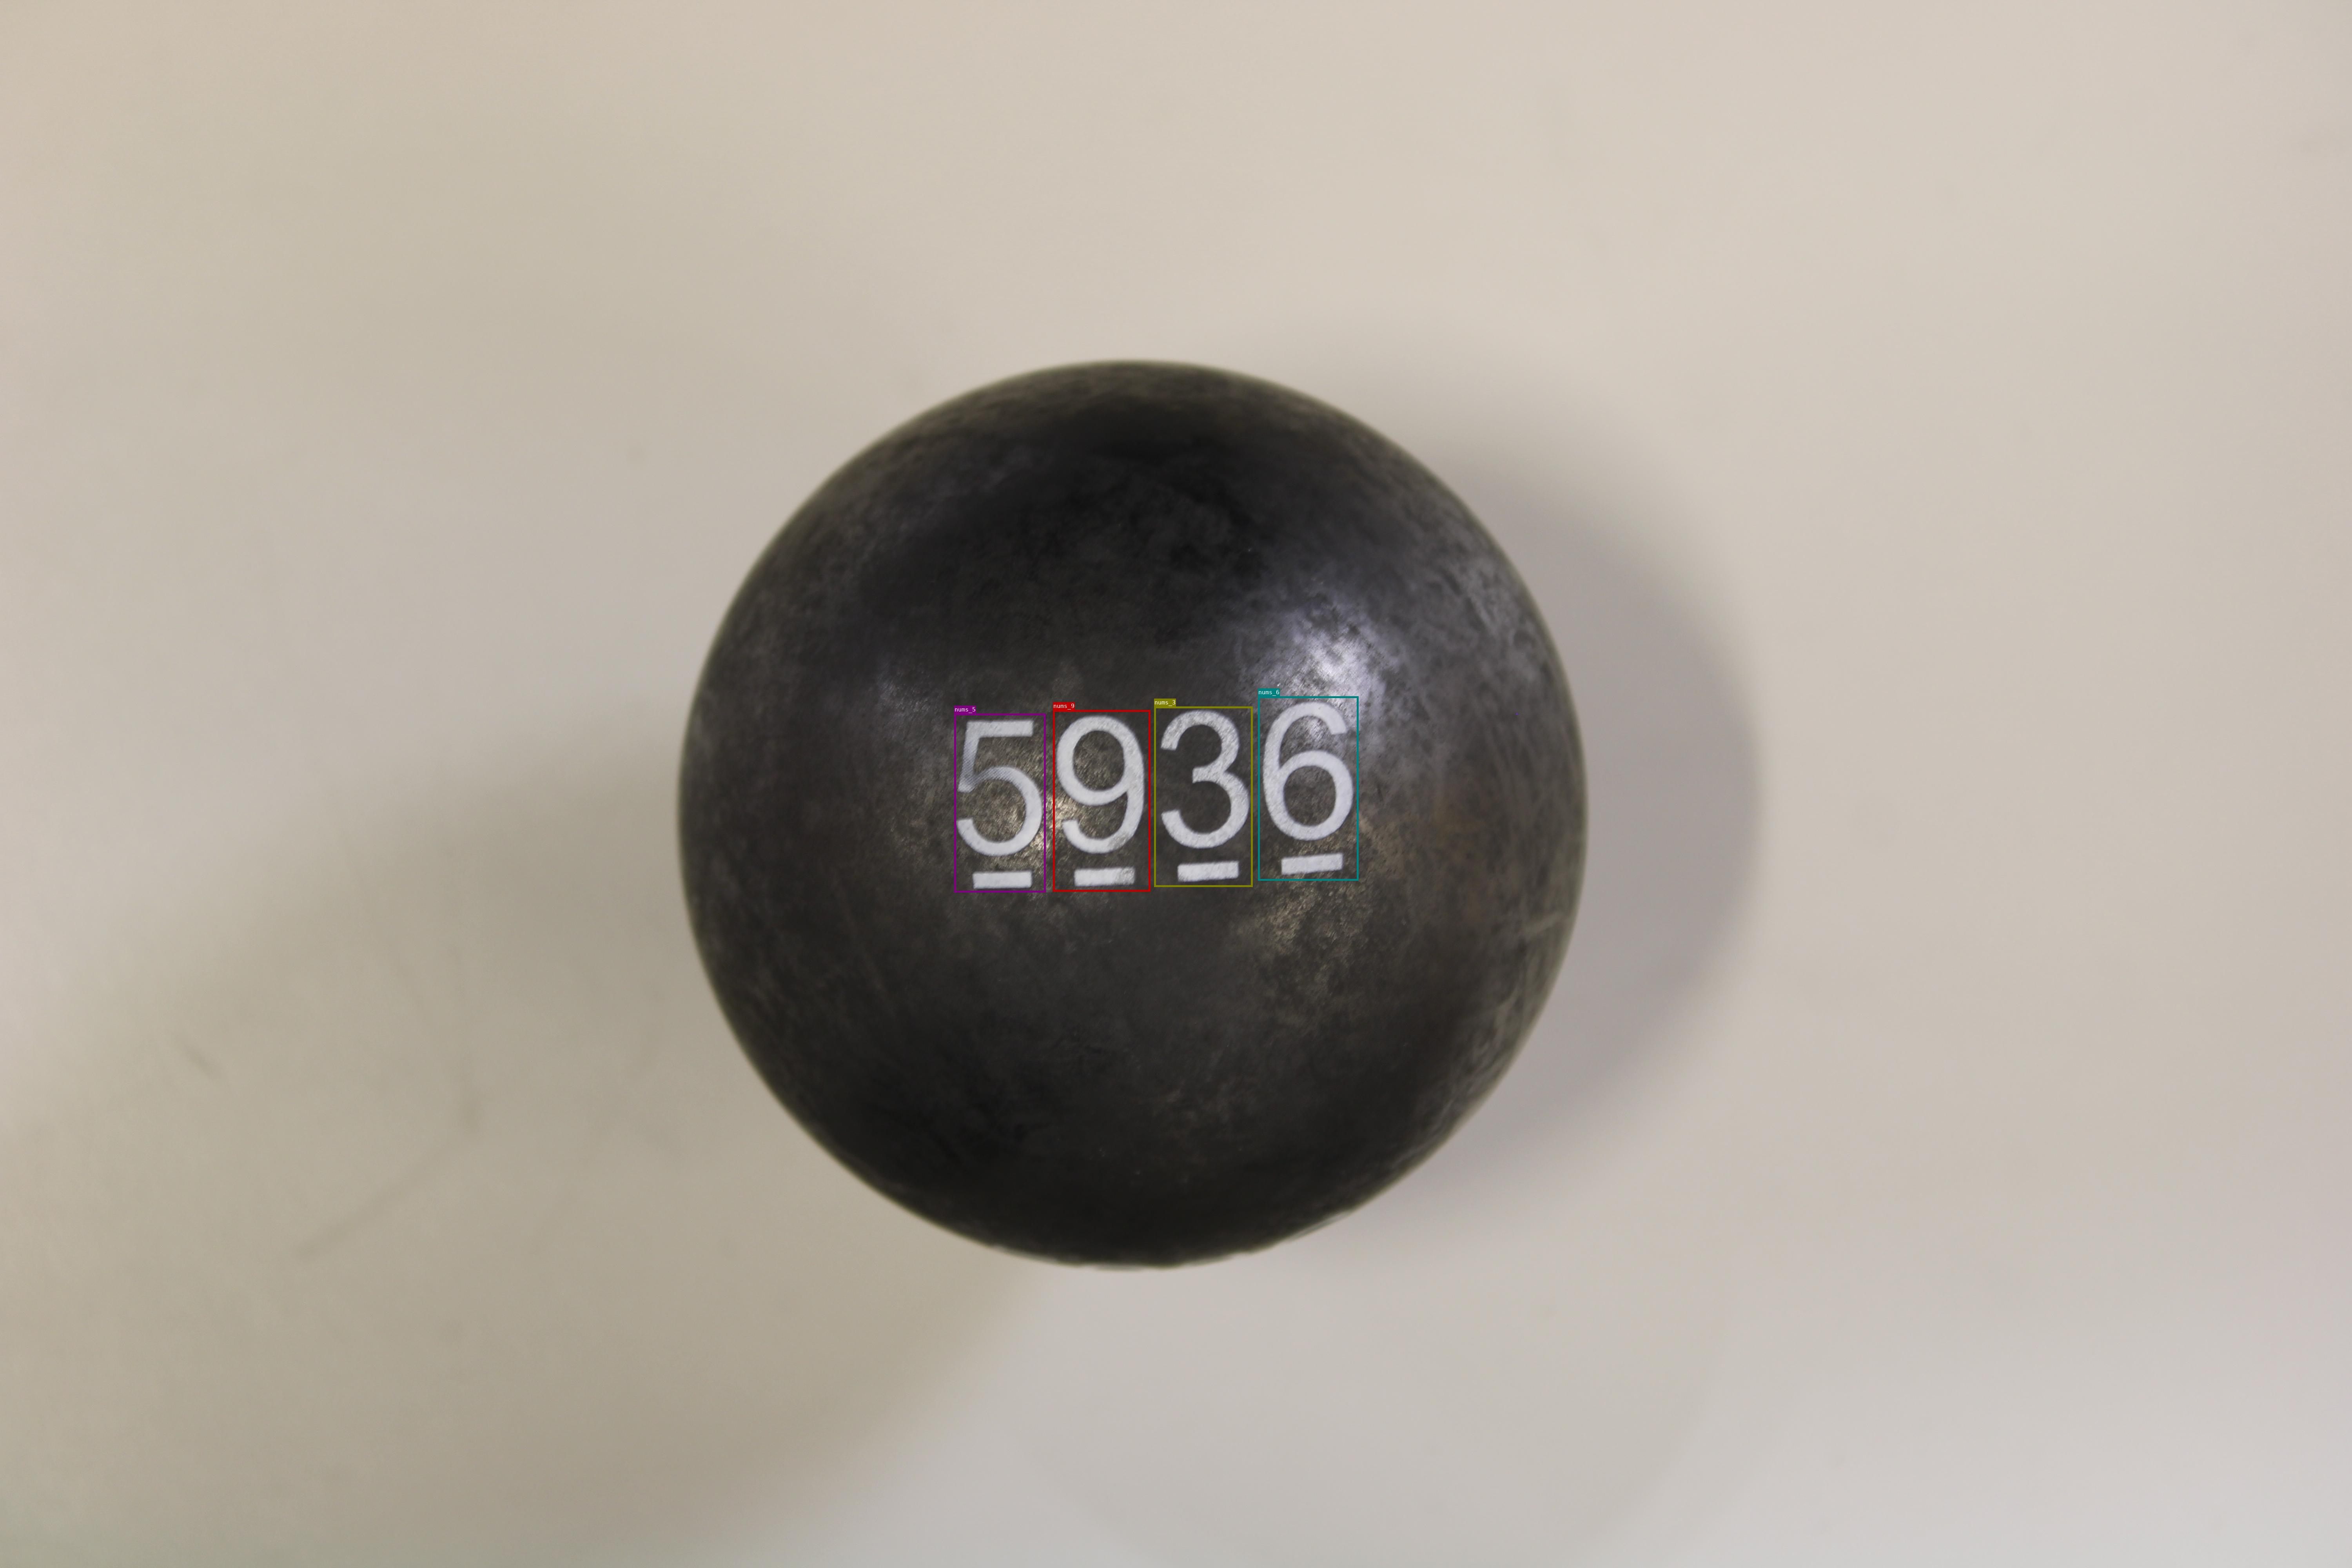nums_3: (1153, 707, 1253, 887)
nums_5: (954, 714, 1045, 892)
nums_6: (1258, 697, 1358, 880)
nums_9: (1053, 710, 1150, 891)
